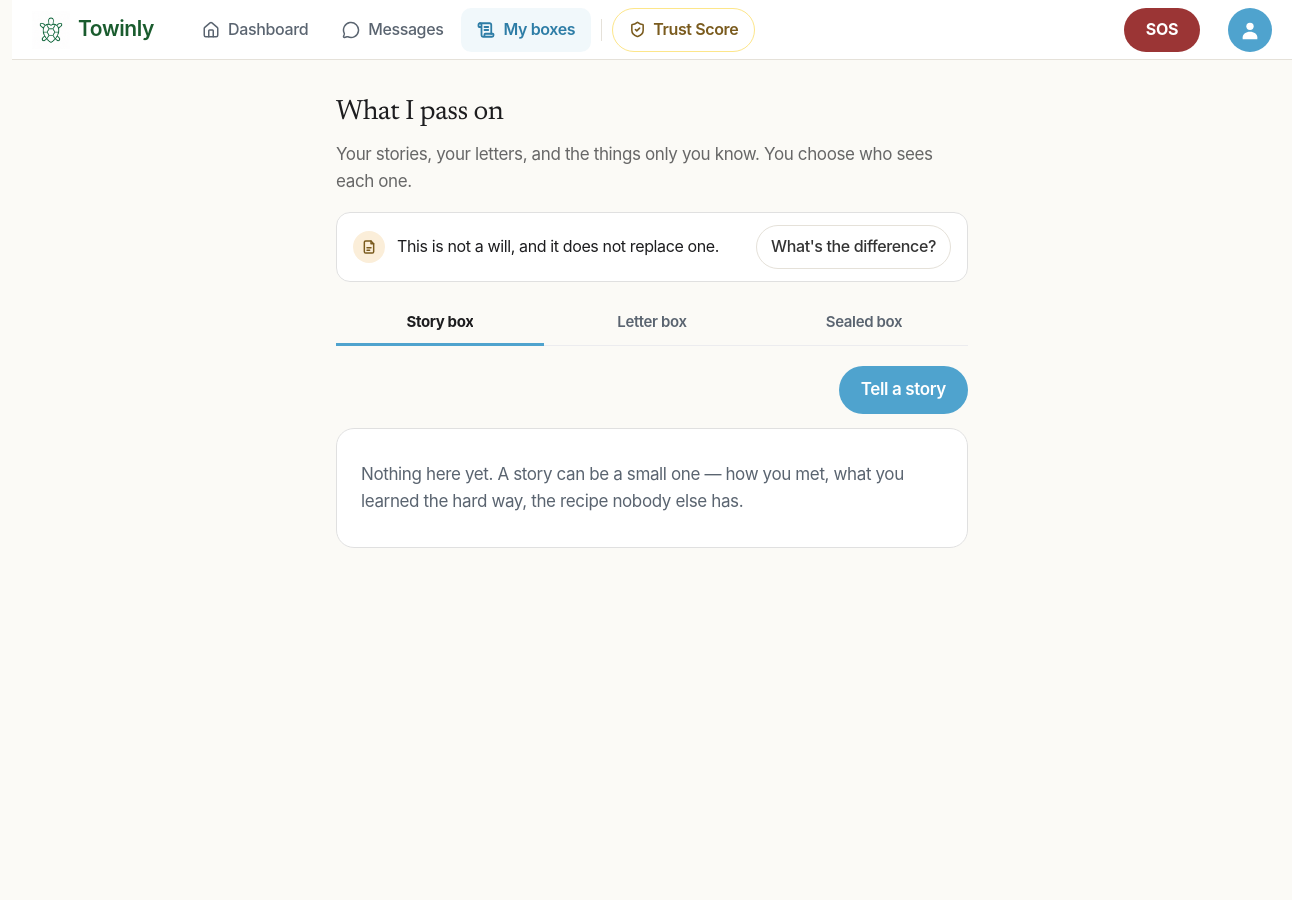
Test: What I pass on — the page itself › keeps the open tab in the address bar, and opens on the tab a link names
The width and height of the screenshot is (1292, 900).
Click the tab "Letter box": click(652, 324) left=548, top=302, right=756, bottom=346
(page scrolled)
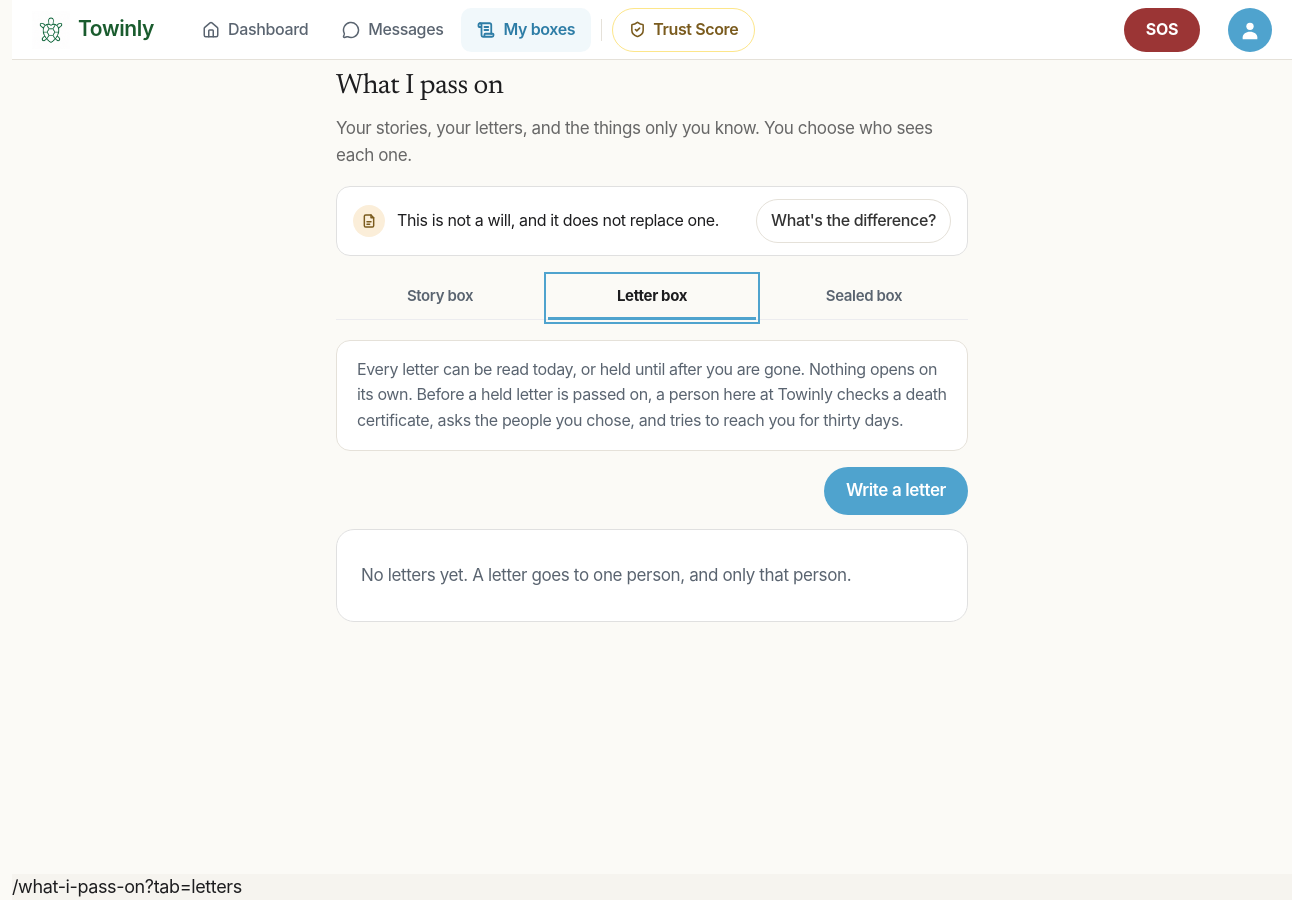
Now the text with test id "where" reads "/what-i-pass-on?tab=letters", box left=12, top=876, right=242, bottom=897
